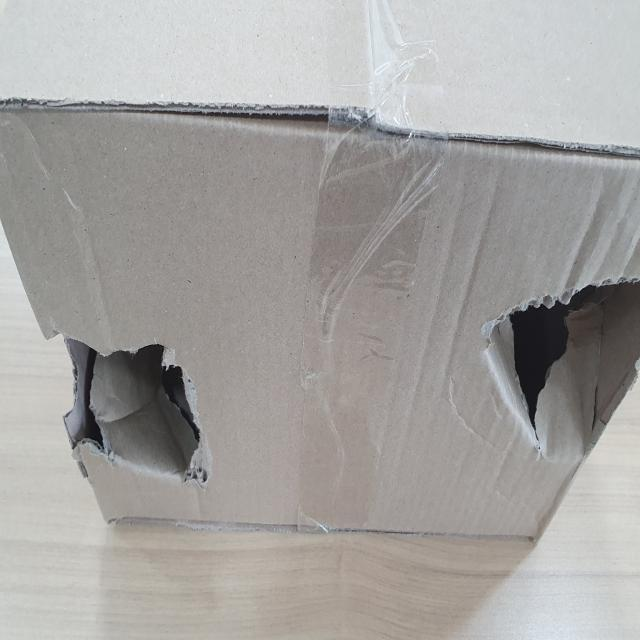hole: (481, 237, 640, 462), (49, 303, 213, 519)
